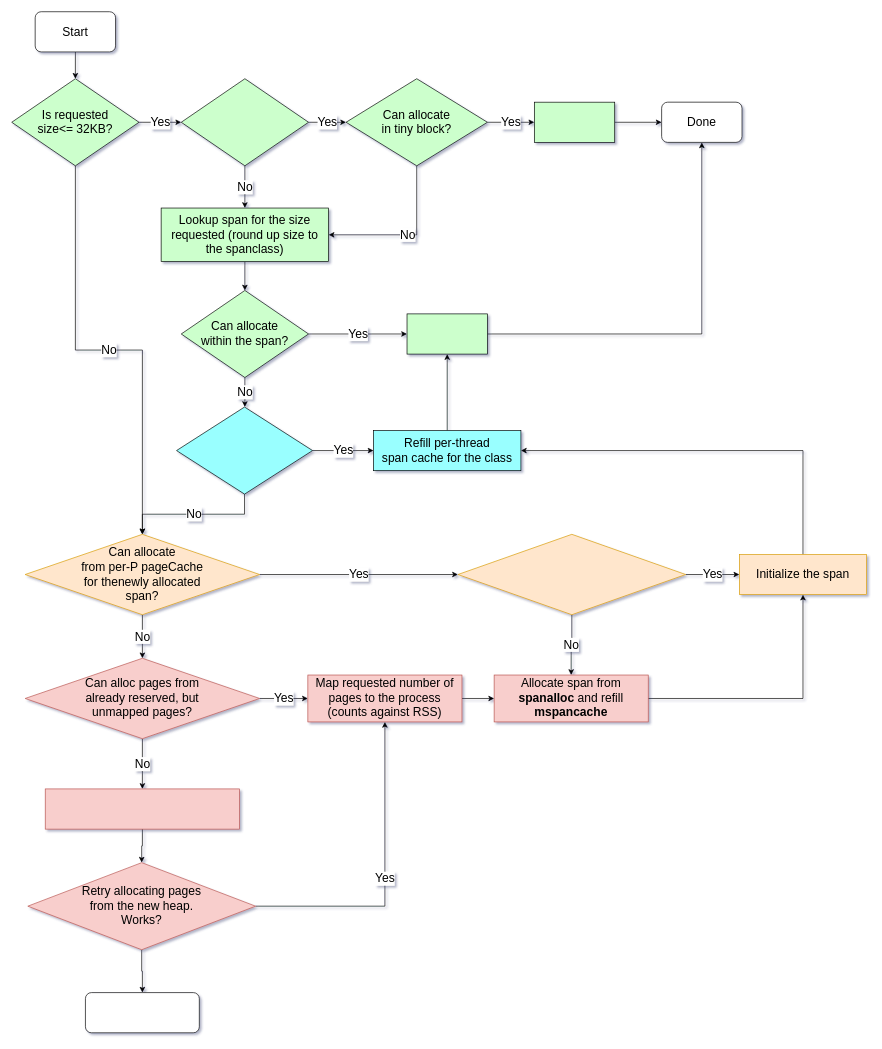
This 882x1049 diagram has some shape labels left out. The centre of each missing label's shape, as x and y in pixels:
"Allocate Arena : Grow heap by reserving (but not mapping) 64MB" goes at point 142,808.
"Allocate from span" goes at point 446,333.
"Allocate from tiny" goes at point 574,122.
"Does central have a span to refill?" goes at point 244,450.
"Error: Cannot find adequate space" goes at point 142,1012.
"Is requested size<= 16B?" goes at point 245,122.
"Is uninitialized span available from mspancache for span allocation?" goes at point 571,574.
